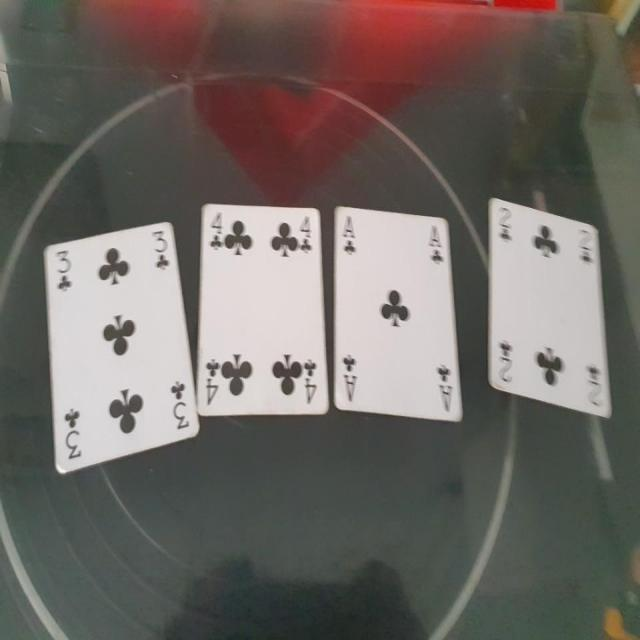2 Trefoils: (485, 197, 616, 424)
3 Trefoils: (41, 220, 200, 474)
4 Trefoils: (195, 201, 332, 417)
A Trefoils: (330, 204, 463, 424)
